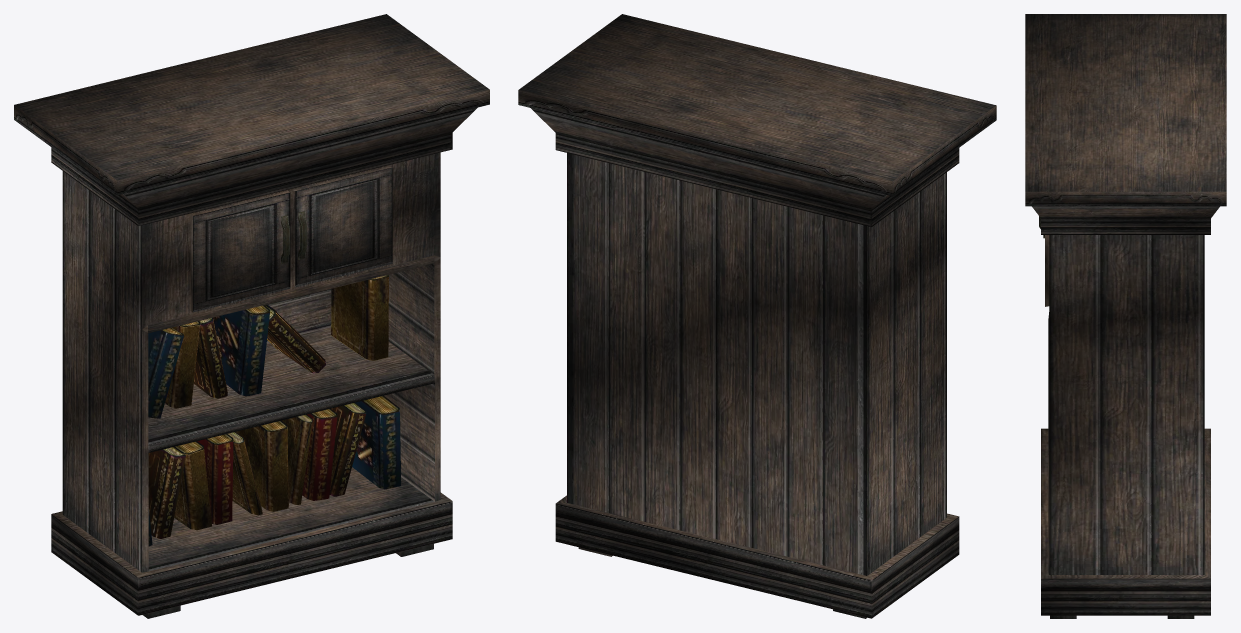
The model's file is GS_VOB_BOOKCASE_BLACK_02_2_KOZA.glb.
3 renders of one model, left to right at view 1: azimuth 30°, elevation 25°; view 2: azimuth 150°, elevation 25°; view 3: azimuth 270°, elevation 25°, orthographic. The views are drawn at different scales.
Visible parts, largest first — view 1: Mesh; view 2: Mesh; view 3: Mesh.
Boxes of the visible parts, <box> form: Mesh: <box>14,14,489,618</box>; Mesh: <box>518,14,996,618</box>; Mesh: <box>1025,14,1226,618</box>.
Size of the model in its own units: 1.41 by 1.66 by 0.6779.
5 materials, 5 textured.
